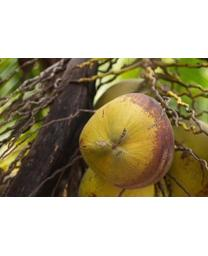coconut: (78, 94, 176, 190)
